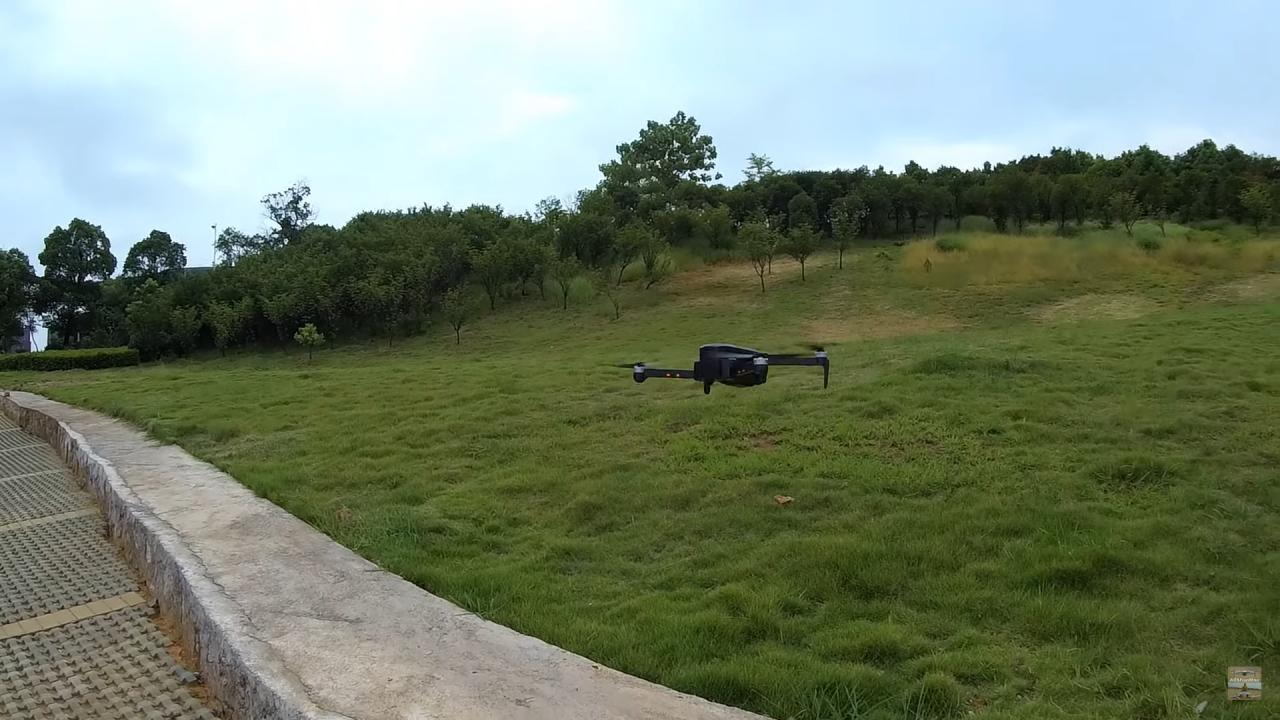Drone: (588, 330, 848, 410)
